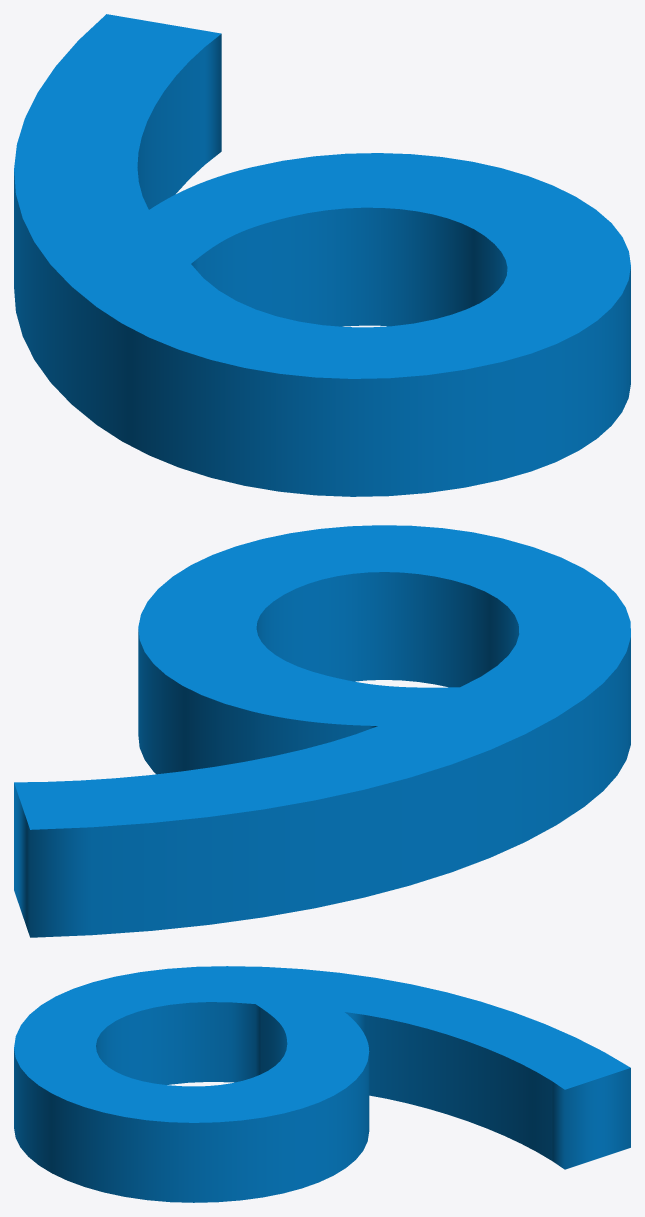
File: Six.fbx
3 renders of one model, top to bottom at view 1: azimuth 30°, elevation 25°; view 2: azimuth 150°, elevation 25°; view 3: azimuth 270°, elevation 25°, orthographic. The views are drawn at different scales.
Parts seen in each view (by area): view 1: Six; view 2: Six; view 3: Six.
Boxes of the visible parts, x1,y1,x2,y2 form: Six: [14, 14, 630, 496]; Six: [14, 525, 630, 937]; Six: [14, 966, 630, 1202].
Bounding box in the file's own units: 140 × 20 × 84.2.
